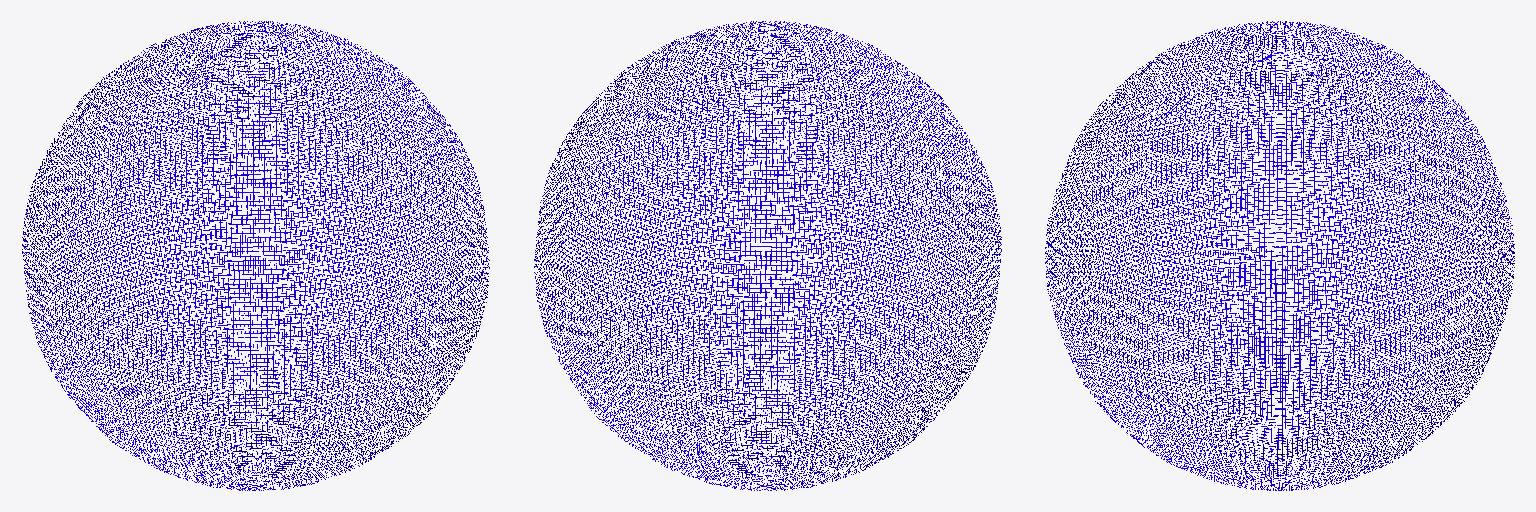
The picture shows the model from 3 angles: view 1: azimuth 30°, elevation 25°; view 2: azimuth 150°, elevation 25°; view 3: azimuth 270°, elevation 25°; orthographic projection.
Visible parts, largest first — view 1: Grid1; view 2: Grid1; view 3: Grid1.
Part boxes in pixels (bbox=[...]): Grid1: bbox=[22, 21, 489, 490]; Grid1: bbox=[534, 21, 1001, 490]; Grid1: bbox=[1045, 21, 1514, 490].
Bounding box in the file's own units: 2 × 2 × 2.
Materials: 1 (1 with a texture image).